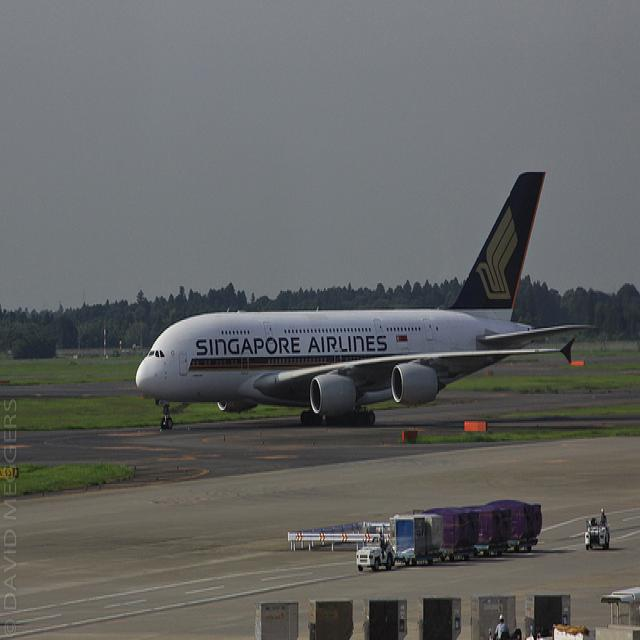Vehicle: (393, 512, 445, 570), (525, 592, 571, 639), (306, 595, 354, 640), (470, 593, 517, 638), (363, 596, 408, 640), (356, 538, 397, 572), (356, 537, 395, 572), (253, 599, 287, 632), (585, 519, 611, 551), (584, 516, 608, 550)
